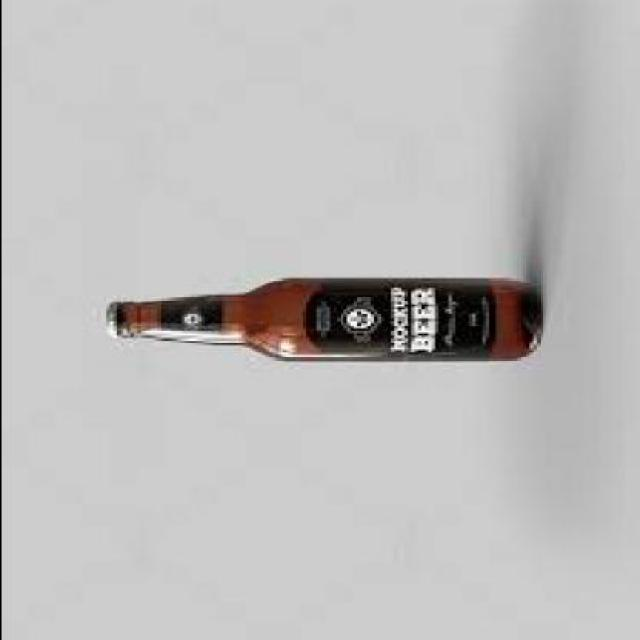GLASS: (116, 281, 538, 362)
METAL: (102, 304, 111, 341)
